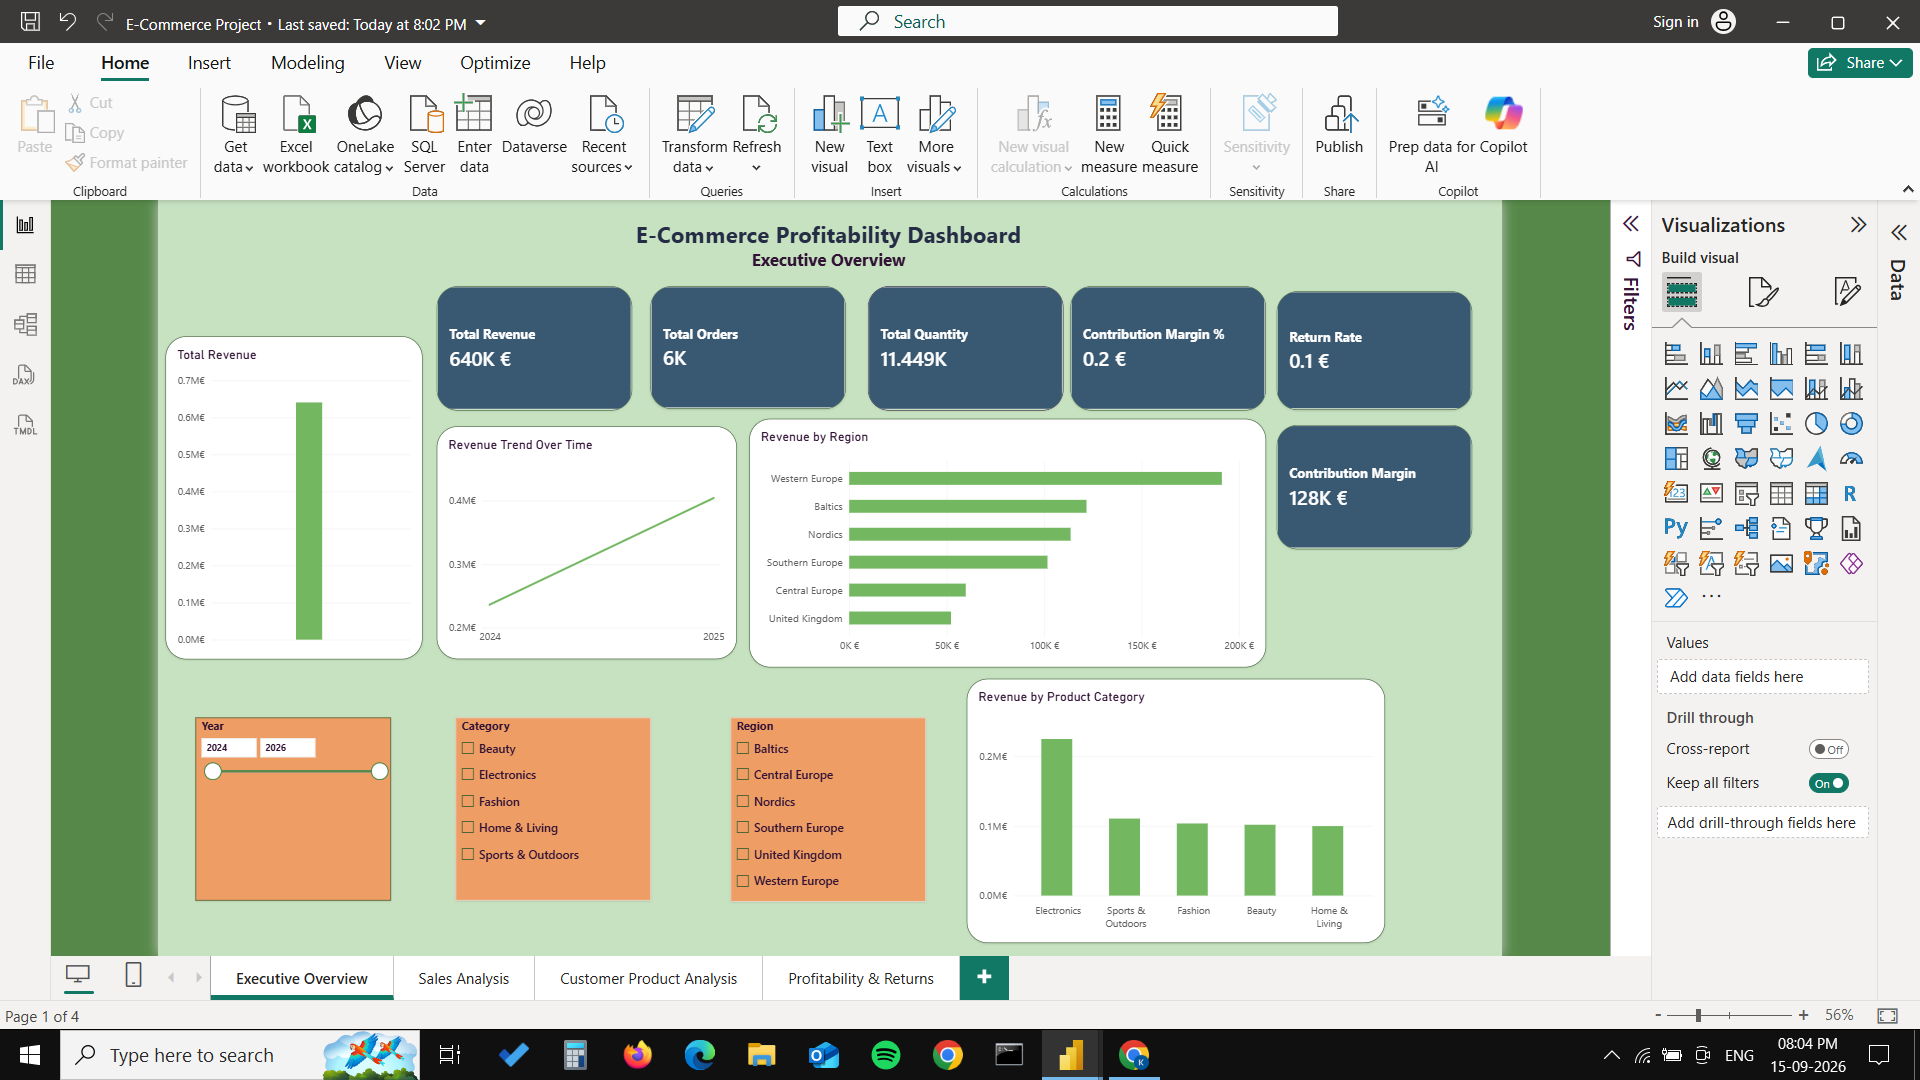

This screenshot's page, from the dashboard's own definition file:
{"tool":"powerbi","page":{"name":"Executive Overview","canvas":[1920,1080],"ordinal":0},"visuals":[{"type":"clusteredColumnChart","fields":{"Y":["tblFactOrderLine.Total Revenue"]},"box":[10.2,193.9,367.3,461.2],"z":0},{"type":"cardVisual","fields":{"Data":["tblFactOrderLine.Total Revenue"]},"box":[398,122.4,279.6,177.6],"z":1000},{"type":"cardVisual","fields":{"Data":["tblFactOrderLine.Total Orders"]},"box":[704.1,122.4,279.6,175.5],"z":2000},{"type":"cardVisual","fields":{"Data":["tblFactOrderLine.Total Quantity"]},"box":[1014.3,122.4,279.6,177.6],"z":3000},{"type":"cardVisual","fields":{"Data":["tblFactOrderLine.Contribution Margin"]},"box":[1597.5,322.1,279.6,177.6],"z":4000},{"type":"cardVisual","fields":{"Data":["tblFactOrderLine.Contribution Margin %"]},"box":[1304.1,122.4,279.6,177.6],"z":5000},{"type":"cardVisual","fields":{"Data":["tblFactOrderLine.Return Rate"]},"box":[1597.5,130.3,279.6,169.4],"z":6000},{"type":"lineChart","title":"Revenue Trend Over Time","fields":{"Category":["tblDimDate.Date.Variation.Date Hierarchy.Year","tblDimDate.Date.Variation.Date Hierarchy.Quarter","tblDimDate.Date.Variation.Date Hierarchy.Month","tblDimDate.Date.Variation.Date Hierarchy.Day"],"Y":["tblFactOrderLine.Total Revenue"]},"box":[398,322.4,428.6,332.7],"z":7000},{"type":"clusteredColumnChart","title":"Revenue by Product Category","fields":{"Category":["tblDimProduct.Category"],"Y":["tblFactOrderLine.Total Revenue"]},"box":[1155.1,683.7,598,377.6],"z":8000},{"type":"clusteredBarChart","title":"Revenue by Region","fields":{"Category":["tblDimGeography.Region"],"Y":["tblFactOrderLine.Total Revenue"]},"box":[844.9,312.2,738.8,355.1],"z":9000},{"type":"slicer","fields":{"Values":["tblDimDate.Year"]},"box":[53.1,738.8,279.6,261.2],"z":10000},{"type":"slicer","fields":{"Values":["tblDimProduct.Category"]},"box":[424.5,738.8,279.6,261.2],"z":11000},{"type":"slicer","fields":{"Values":["tblDimGeography.Region"]},"box":[818.4,738.8,279.6,263.3],"z":12000},{"type":"textbox","box":[637.5,26.8,641.1,96.4],"z":13000}]}

Visuals, with their boxes on the page's 1920x1080 design canvas (x1, y1, x2, y2). These are canvas units, not pixel positions in the 1920x1080 screenshot, which may show the page scaled, cropped or inside an application window:
clusteredColumnChart - tblFactOrderLine.Total Revenue: left=10, top=194, right=378, bottom=655
cardVisual - tblFactOrderLine.Total Revenue: left=398, top=122, right=678, bottom=300
cardVisual - tblFactOrderLine.Total Orders: left=704, top=122, right=984, bottom=298
cardVisual - tblFactOrderLine.Total Quantity: left=1014, top=122, right=1294, bottom=300
cardVisual - tblFactOrderLine.Contribution Margin: left=1598, top=322, right=1877, bottom=500
cardVisual - tblFactOrderLine.Contribution Margin %: left=1304, top=122, right=1584, bottom=300
cardVisual - tblFactOrderLine.Return Rate: left=1598, top=130, right=1877, bottom=300
"Revenue Trend Over Time" lineChart: left=398, top=322, right=827, bottom=655
"Revenue by Product Category" clusteredColumnChart: left=1155, top=684, right=1753, bottom=1061
"Revenue by Region" clusteredBarChart: left=845, top=312, right=1584, bottom=667
slicer - tblDimDate.Year: left=53, top=739, right=333, bottom=1000
slicer - tblDimProduct.Category: left=424, top=739, right=704, bottom=1000
slicer - tblDimGeography.Region: left=818, top=739, right=1098, bottom=1002
textbox: left=638, top=27, right=1279, bottom=123
